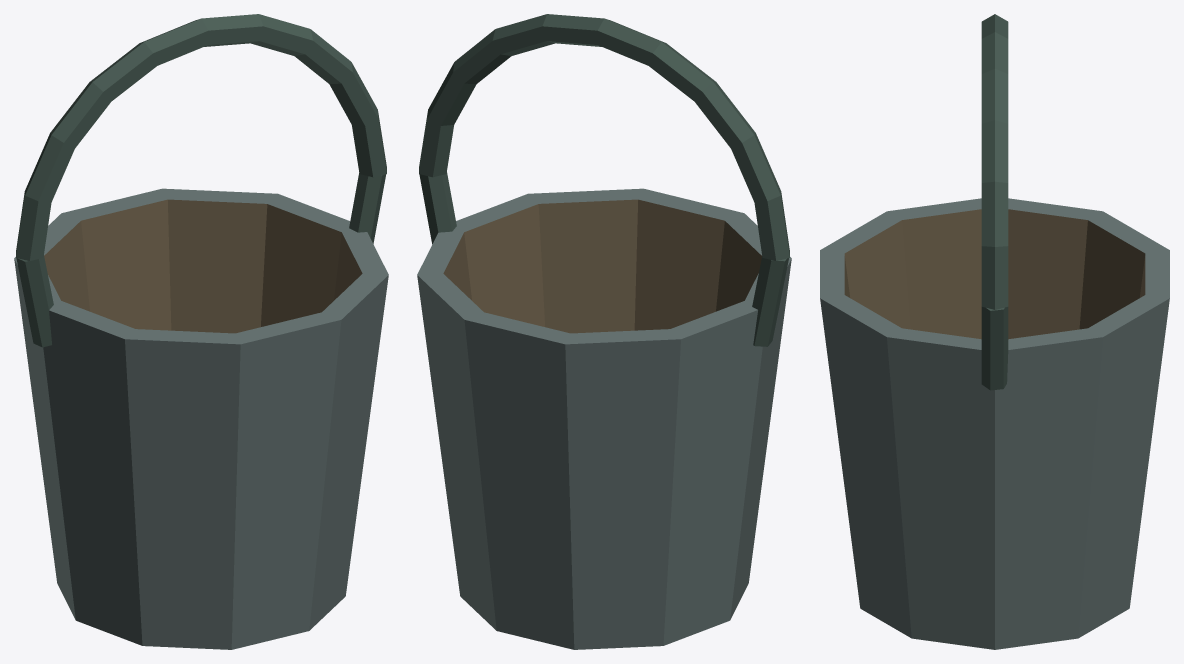
The model's file is qc_bucket.obj.
3 views of the same model, side by side, from view 1: azimuth 30°, elevation 25°; view 2: azimuth 150°, elevation 25°; view 3: azimuth 270°, elevation 25° (orthographic). The views are drawn at different scales.
Visible parts, largest first — view 1: qc_bucket; view 2: qc_bucket; view 3: qc_bucket.
Boxes of the visible parts, x1,y1,x2,y2 form: qc_bucket: (14, 14, 388, 649); qc_bucket: (417, 14, 791, 649); qc_bucket: (820, 14, 1169, 649).
Size of the model in its own units: 0.432 by 0.636 by 0.3614.
